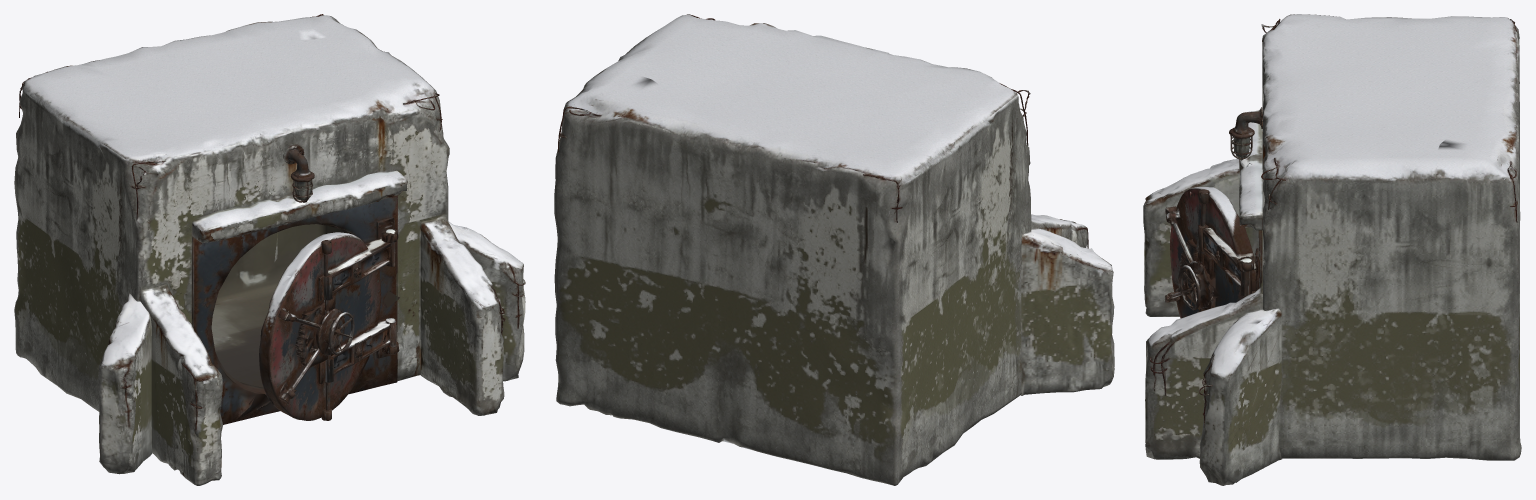
File: road_silo_portal.glb
The picture shows the model from 3 angles, left to right: view 1: azimuth 30°, elevation 25°; view 2: azimuth 150°, elevation 25°; view 3: azimuth 270°, elevation 25°; orthographic projection. The views are drawn at different scales.
Bounding box in the file's own units: 0.9575 × 0.6069 × 0.7104.
Materials: 1 (1 with a texture image).
